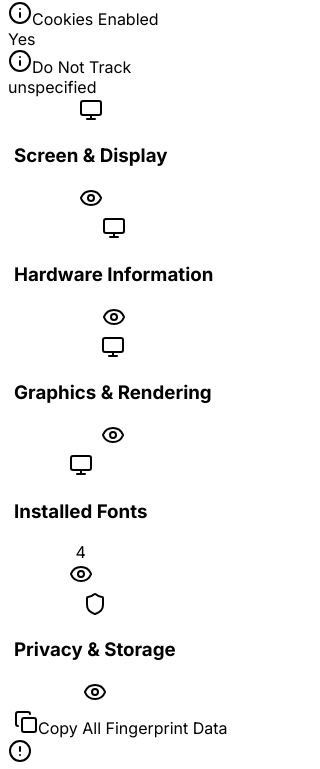
Browser Fingerprint Page - Component Tests › should display WebGL information
(page scrolled)
Expected: the heading "Graphics & Rendering" is shown, [14, 381, 212, 404]
Click the button "Graphics & Rendering". click: (113, 393)
box: [8, 334, 218, 452]
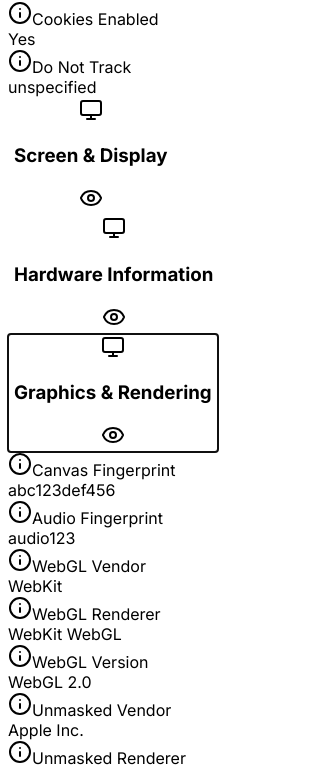
Result: the text "WebGL Vendor" is shown at [32, 556, 146, 576]
Result: the text "WebKit" is shown at [8, 576, 62, 596]
Result: the text "WebGL Renderer" is shown at [32, 604, 161, 624]
